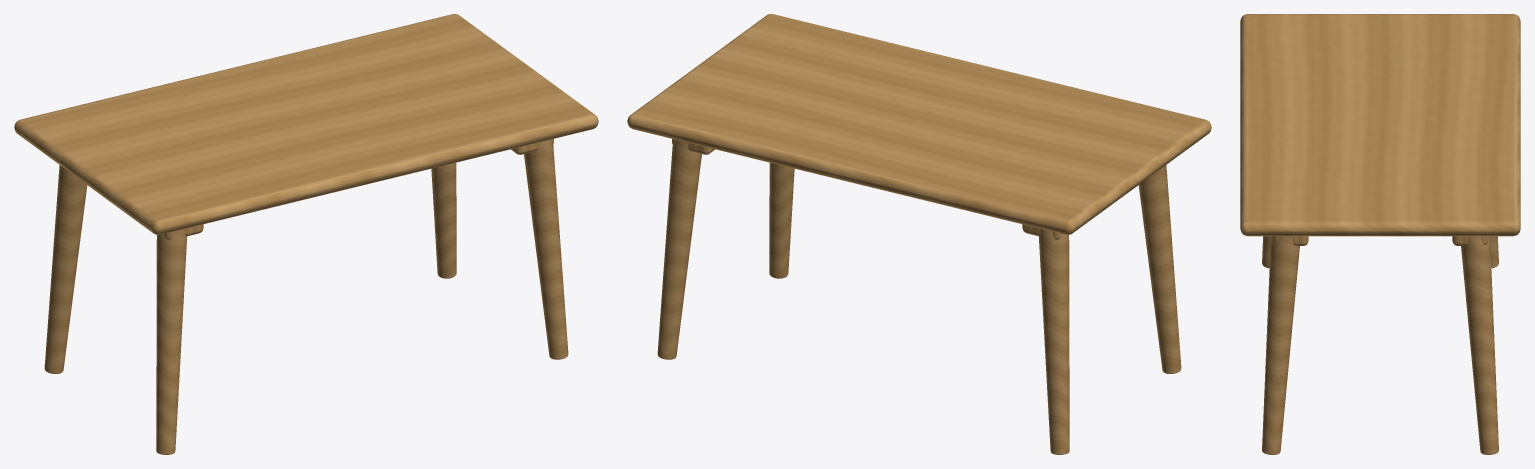
The model's file is table.glb.
3 views of the same model, side by side, from view 1: azimuth 30°, elevation 25°; view 2: azimuth 150°, elevation 25°; view 3: azimuth 270°, elevation 25° (orthographic). The views are drawn at different scales.
Parts seen in each view (by area): view 1: Rounded_ash_tabletop, Splayed_tapered_leg, Splayed_tapered_leg.002, Splayed_tapered_leg.001, Splayed_tapered_leg.003; view 2: Rounded_ash_tabletop, Splayed_tapered_leg.001, Splayed_tapered_leg.003, Splayed_tapered_leg, Splayed_tapered_leg.002; view 3: Rounded_ash_tabletop, Splayed_tapered_leg.002, Splayed_tapered_leg.003.
Boxes of the visible parts, x1=… form: Rounded_ash_tabletop: x1=14, y1=14, x2=598, y2=234; Splayed_tapered_leg: x1=156, y1=229, x2=187, y2=454; Splayed_tapered_leg.002: x1=524, y1=140, x2=568, y2=359; Splayed_tapered_leg.001: x1=44, y1=165, x2=87, y2=373; Splayed_tapered_leg.003: x1=431, y1=162, x2=456, y2=278; Rounded_ash_tabletop: x1=627, y1=14, x2=1211, y2=234; Splayed_tapered_leg.001: x1=1038, y1=229, x2=1069, y2=454; Splayed_tapered_leg.003: x1=657, y1=140, x2=701, y2=359; Splayed_tapered_leg: x1=1138, y1=165, x2=1181, y2=373; Splayed_tapered_leg.002: x1=769, y1=162, x2=794, y2=278; Rounded_ash_tabletop: x1=1240, y1=14, x2=1520, y2=236; Splayed_tapered_leg.002: x1=1262, y1=236, x2=1299, y2=454; Splayed_tapered_leg.003: x1=1461, y1=236, x2=1498, y2=454.
Bounding box in the file's own units: 1.4 × 0.74 × 0.78.
Materials: 1 (1 with a texture image).
